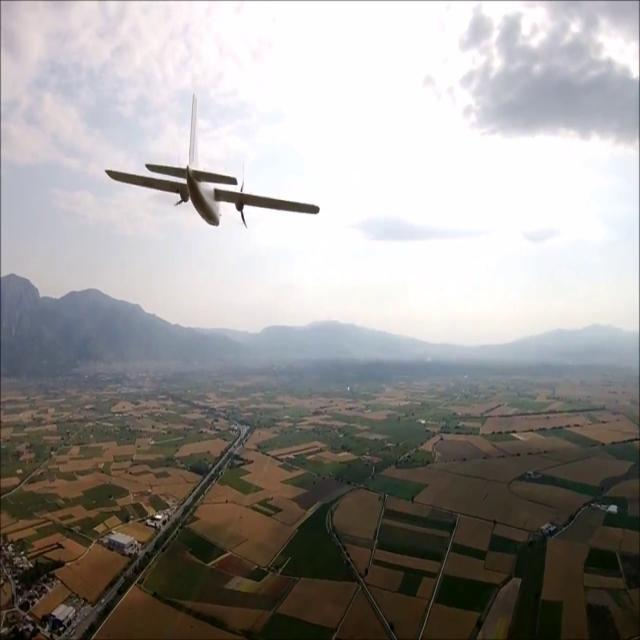iha: (98, 119, 327, 251)
